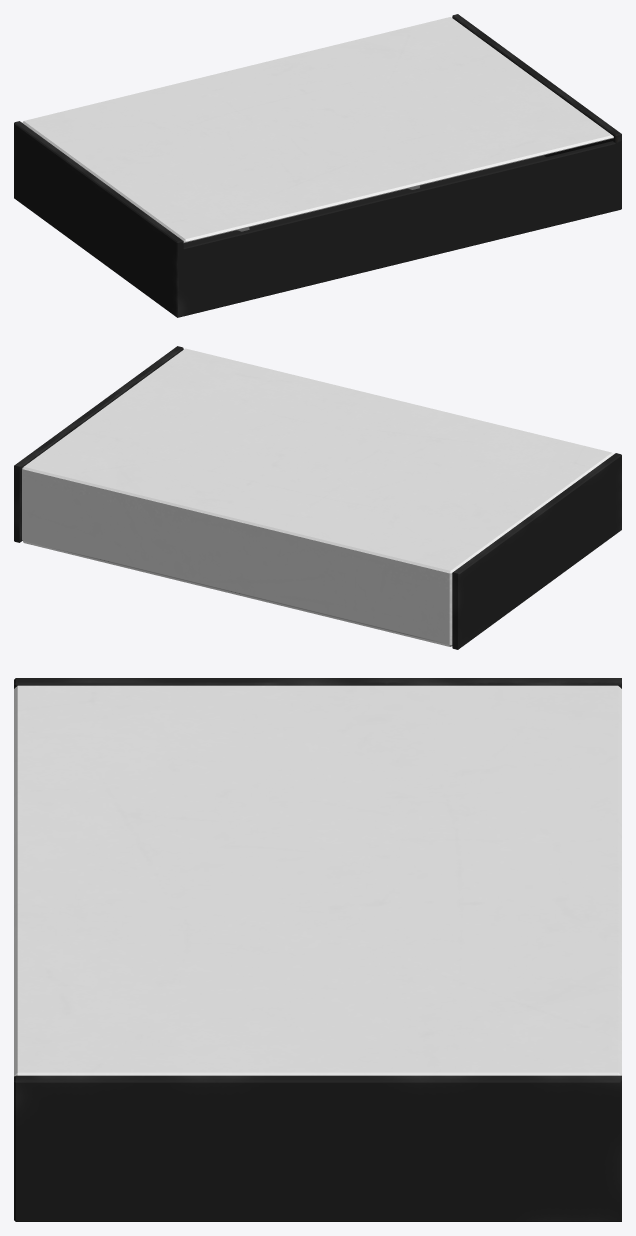
File: hero_cassette_case.glb
3 renders of one model, top to bottom at view 1: azimuth 30°, elevation 25°; view 2: azimuth 150°, elevation 25°; view 3: azimuth 270°, elevation 25°, orthographic. The views are drawn at different scales.
Parts seen in each view (by area): view 1: caseLid_GEO.002_baked, caseBody_GEO.002_baked; view 2: caseLid_GEO.002_baked, caseBody_GEO.002_baked; view 3: caseLid_GEO.002_baked, caseBody_GEO.002_baked.
Boxes of the visible parts, bbox=[...] form: caseLid_GEO.002_baked: bbox=[22, 17, 613, 242]; caseBody_GEO.002_baked: bbox=[14, 14, 621, 317]; caseLid_GEO.002_baked: bbox=[22, 348, 613, 646]; caseBody_GEO.002_baked: bbox=[14, 346, 621, 649]; caseLid_GEO.002_baked: bbox=[14, 685, 621, 1076]; caseBody_GEO.002_baked: bbox=[14, 678, 621, 1221].
Size of the model in its own units: 0.112 by 0.0183 by 0.0713.
2 materials, 2 textured.
